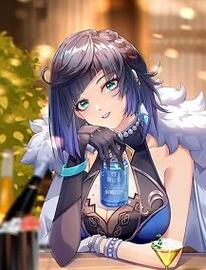夜兰: (49, 28, 194, 269)
